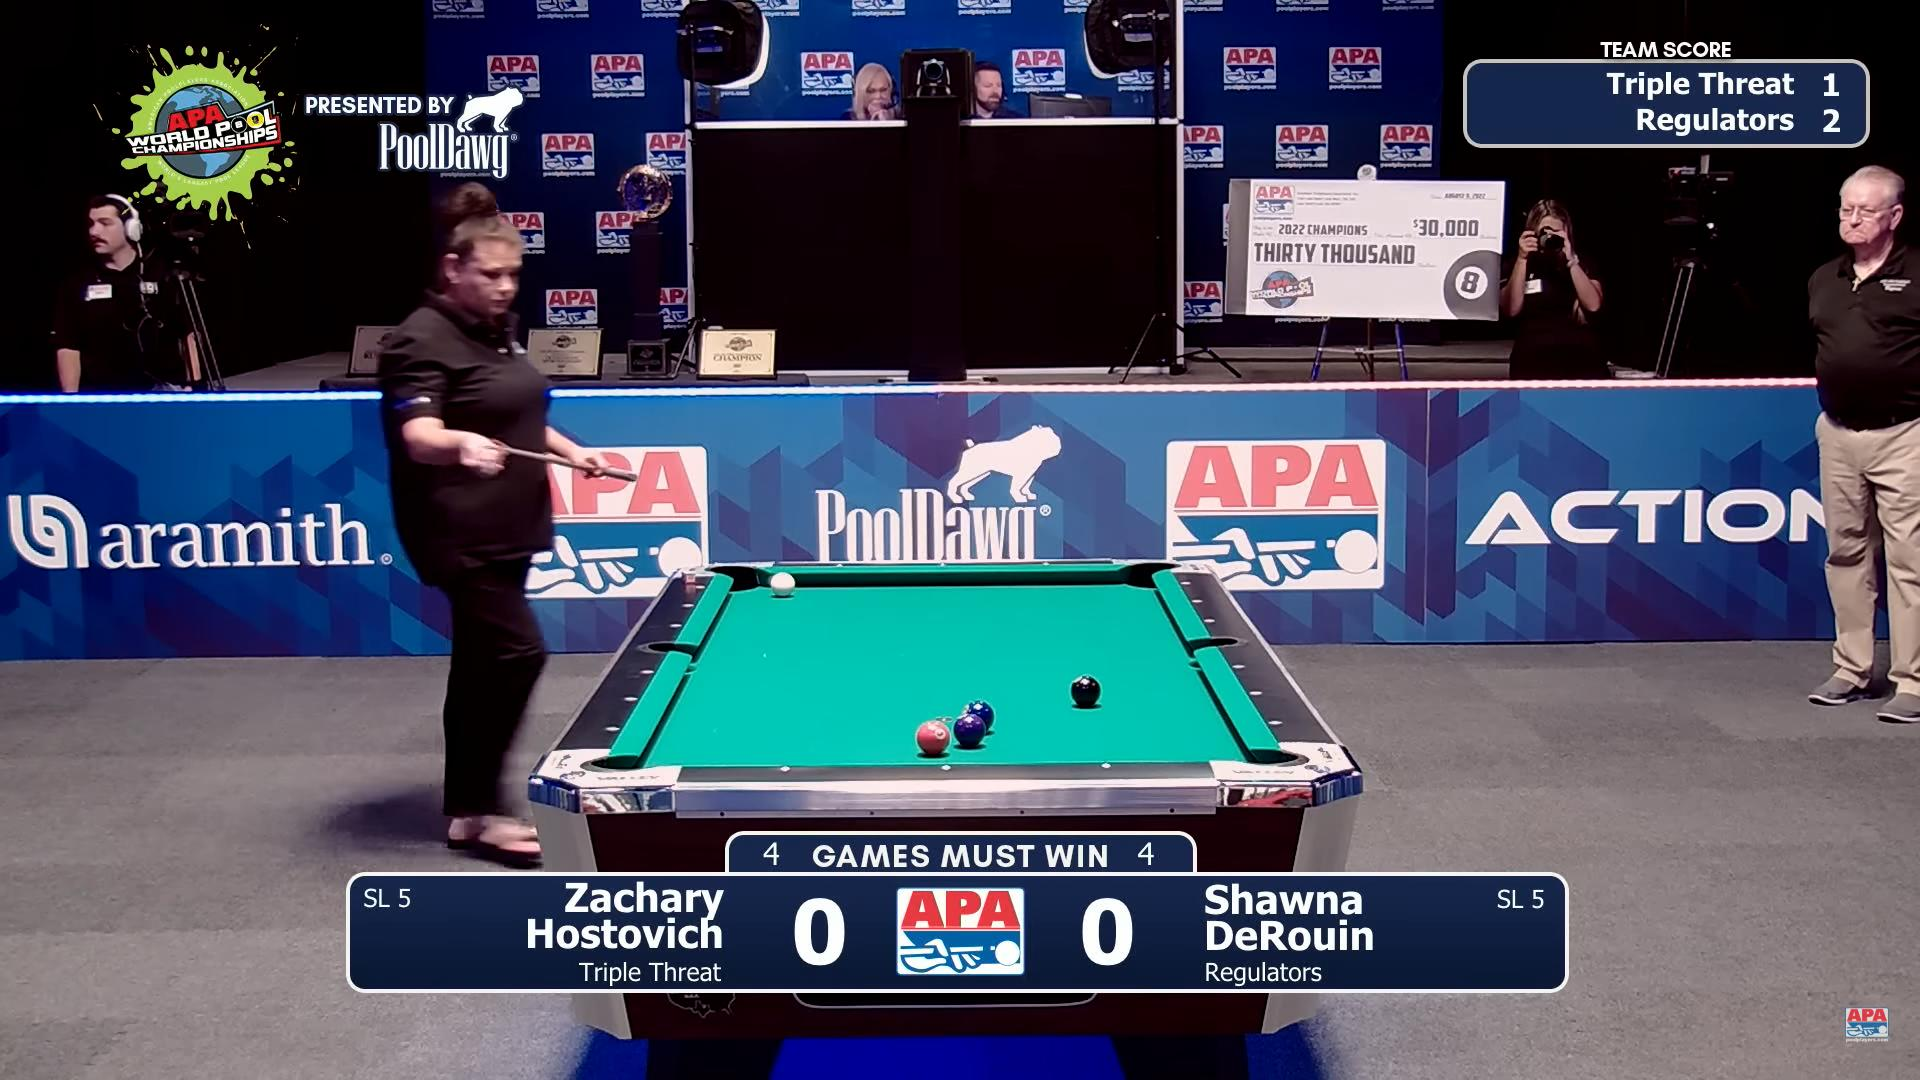Black: (1069, 675, 1100, 708)
Cue: (771, 572, 796, 596)
Dot: (641, 666, 655, 676), (667, 620, 682, 630), (692, 582, 707, 592), (832, 560, 847, 571), (935, 559, 949, 570), (1189, 596, 1204, 607), (1247, 688, 1262, 699), (938, 762, 952, 773), (1179, 578, 1192, 588), (1201, 616, 1216, 625), (1269, 719, 1283, 728), (1098, 761, 1113, 770), (778, 765, 793, 774), (607, 724, 620, 733), (625, 694, 638, 703), (680, 600, 694, 609), (1039, 559, 1052, 568), (1232, 662, 1245, 671)
Solid: (916, 720, 949, 756), (953, 713, 986, 748), (964, 699, 994, 732)
